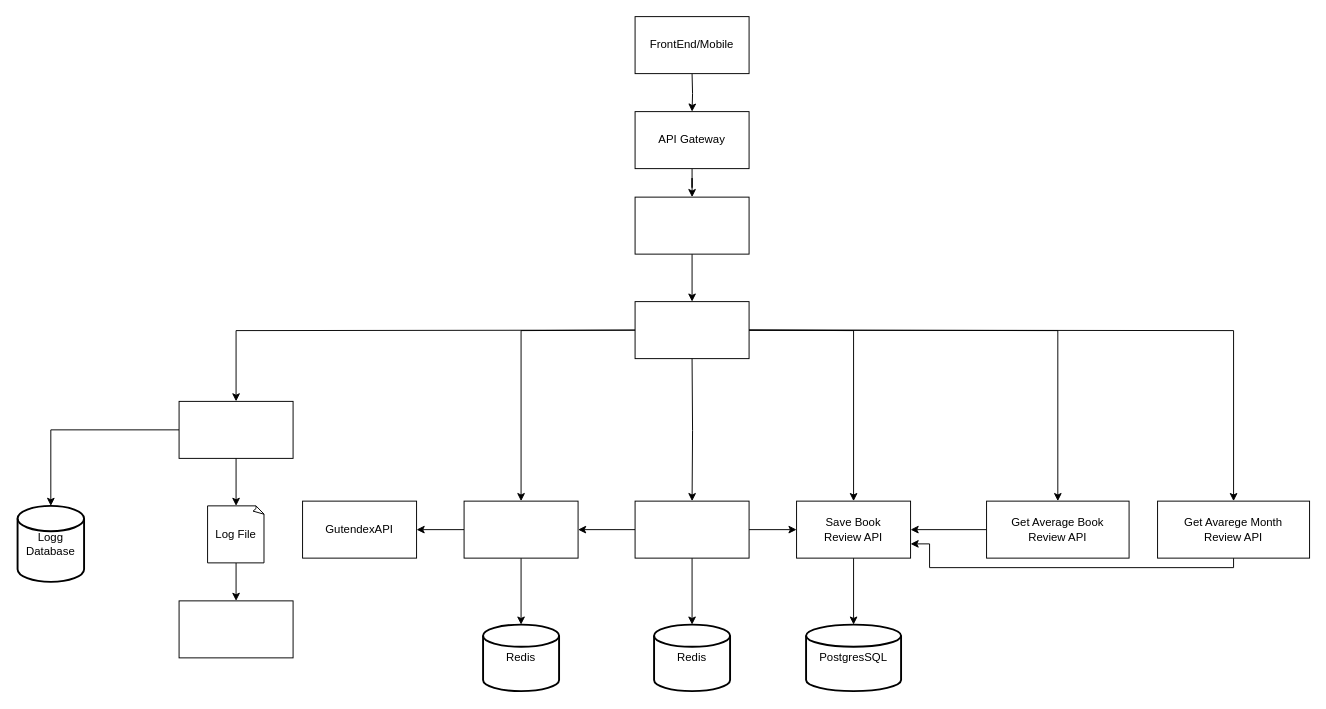
This 1326x709 diagram has some shape labels left out. The shapes that lost their labels are listed below. From the top down, each one's box as (x1, y1, x2, y2) in pixels, then its label:
(634, 196, 749, 254): Kubernetes Cluster
(634, 301, 749, 359): LoadBalancer
(178, 400, 293, 458): Logging and Monitoring
(463, 500, 578, 558): Search Book By Name API
(634, 500, 749, 558): Get Detailed Book Data API
(178, 600, 293, 658): Reports
